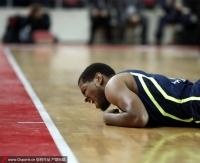falling: (73, 47, 196, 134)
